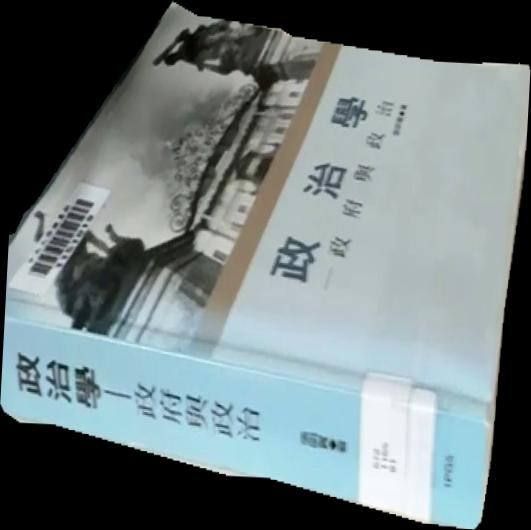flat: (1, 1, 531, 530)
